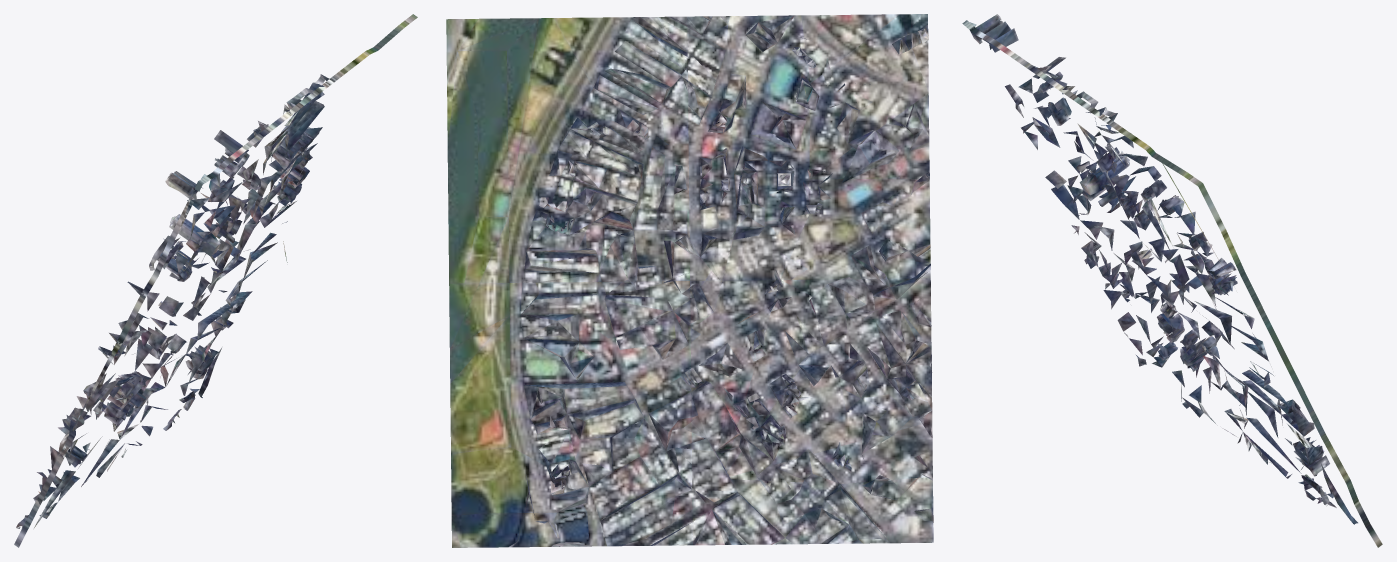
3 renders of one model, left to right at view 1: azimuth 30°, elevation 25°; view 2: azimuth 150°, elevation 25°; view 3: azimuth 270°, elevation 25°, orthographic. The views are drawn at different scales.
Size of the model in its own units: 1222 by 1126 by 1031.
2 materials, 2 textured.
